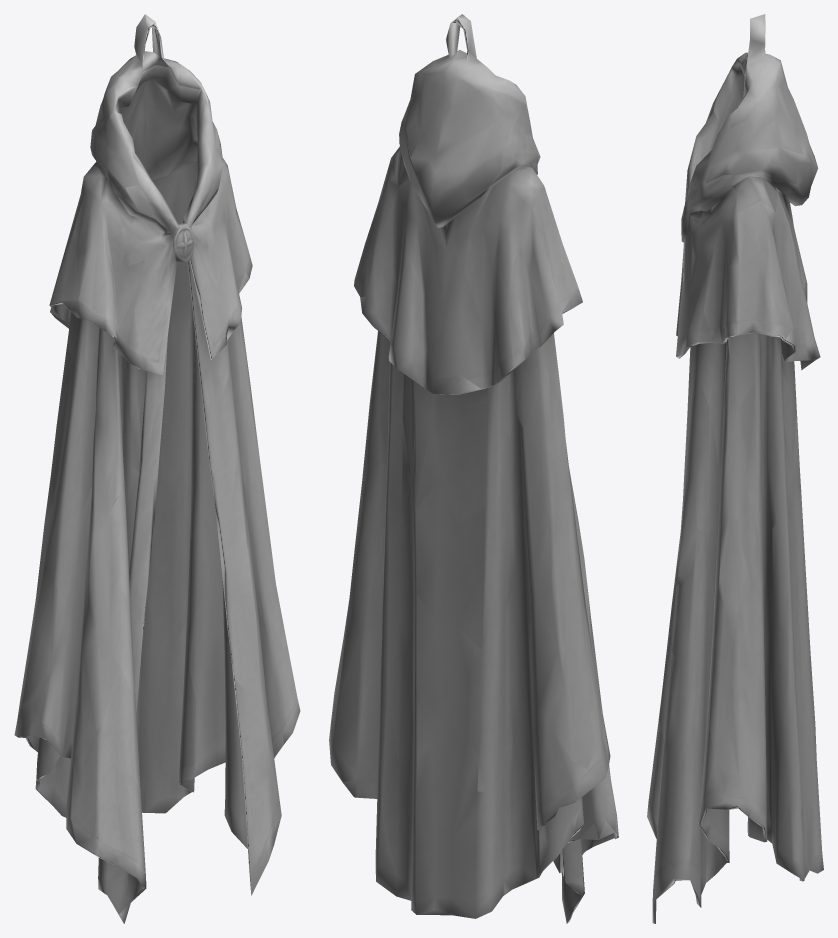
File: vestibule-hanging-cloak.glb
The picture shows the model from 3 angles, left to right: view 1: azimuth 30°, elevation 25°; view 2: azimuth 150°, elevation 25°; view 3: azimuth 270°, elevation 25°; orthographic projection. The views are drawn at different scales.
Parts seen in each view (by area): view 1: Complete hanging cloak; view 2: Complete hanging cloak; view 3: Complete hanging cloak.
Boxes of the visible parts, x1=… form: Complete hanging cloak: x1=14, y1=14, x2=300, y2=923; Complete hanging cloak: x1=329, y1=14, x2=618, y2=923; Complete hanging cloak: x1=647, y1=14, x2=823, y2=923.
Size of the model in its own units: 0.25 by 0.78 by 0.14.
Materials: 1 (1 with a texture image).
